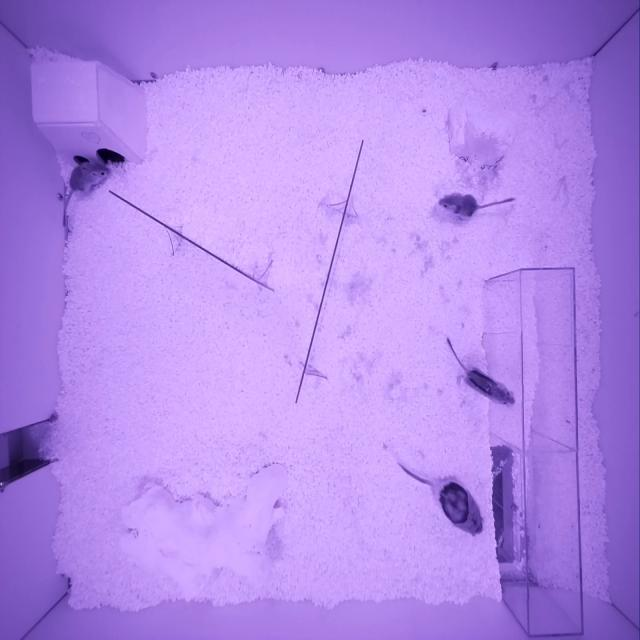adult_back: (430, 478, 484, 537)
pup_fluffy: (69, 161, 111, 195)
pup_spotted: (438, 193, 477, 218)
pup_v_stripe: (465, 367, 516, 407)
